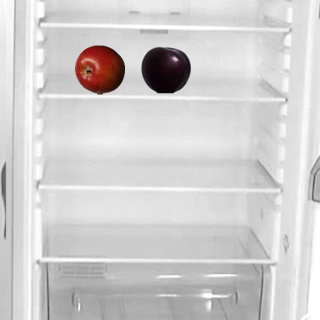Apple Braeburn: (74, 44, 124, 94)
Cherry Wax Black: (140, 44, 190, 94)
